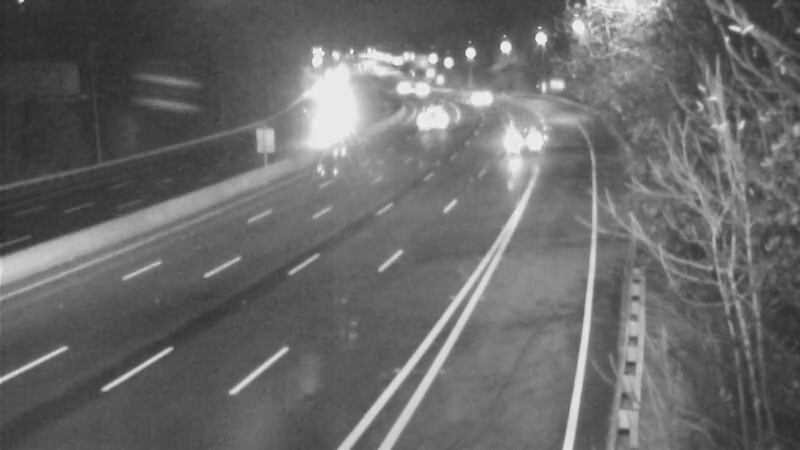vehicle: (376, 65, 426, 115), (396, 66, 446, 116), (450, 72, 500, 122), (406, 90, 456, 140), (501, 116, 551, 166)
